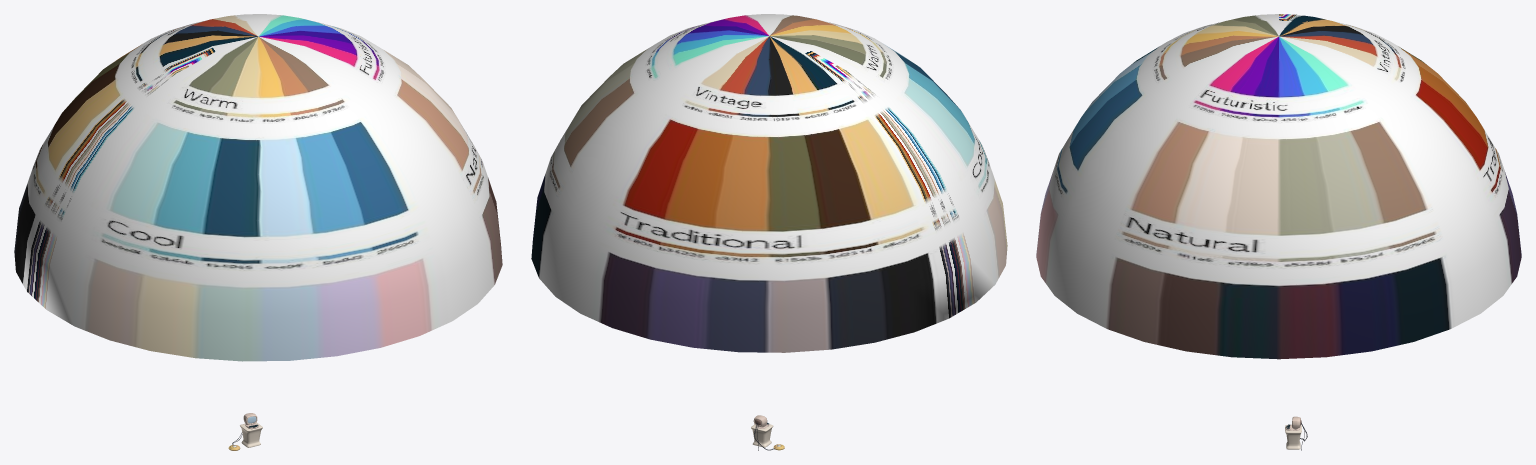
The model's file is ConnectingTerminal1.fbx.
The picture shows the model from 3 angles, left to right: view 1: azimuth 30°, elevation 25°; view 2: azimuth 150°, elevation 25°; view 3: azimuth 270°, elevation 25°; orthographic projection. The views are drawn at different scales.
Visible parts, largest first — view 1: Dach, Cube.007; view 2: Dach, Cube.007; view 3: Dach, Cube.007.
Part boxes in pixels (x1,y1,x2,y2): Dach: (14, 14, 502, 361); Cube.007: (228, 413, 262, 450); Dach: (531, 14, 1007, 352); Cube.007: (751, 415, 784, 450); Dach: (1036, 14, 1521, 359); Cube.007: (1285, 416, 1307, 450).
Size of the model in its own units: 2650 by 2494 by 2650.
